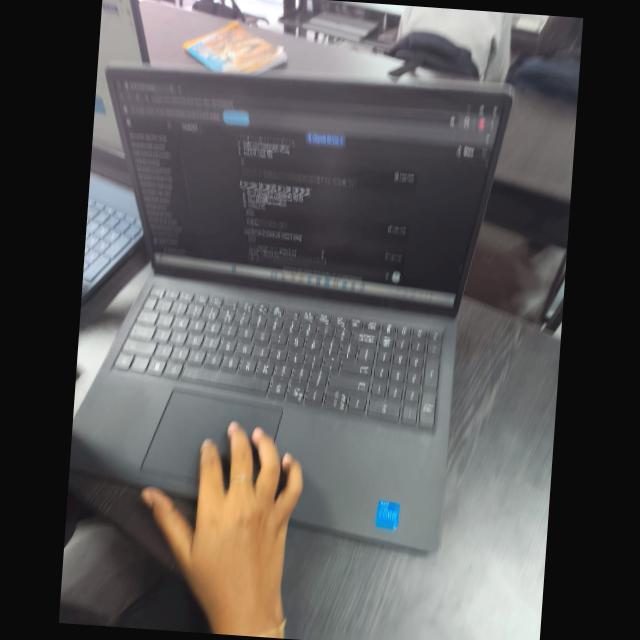laptop: (75, 53, 578, 590)
